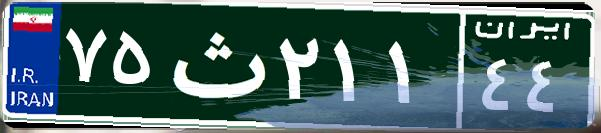1: (385, 28, 445, 110), (330, 28, 385, 110)
2: (273, 28, 330, 110)
4: (475, 38, 525, 113), (525, 38, 570, 115)
5: (110, 28, 158, 105)
7: (57, 26, 110, 107)
ث: (158, 15, 273, 115)
